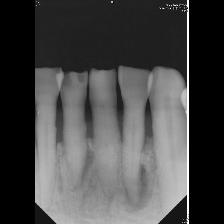apical_lesion: (117, 69, 155, 216), (57, 71, 93, 217)
